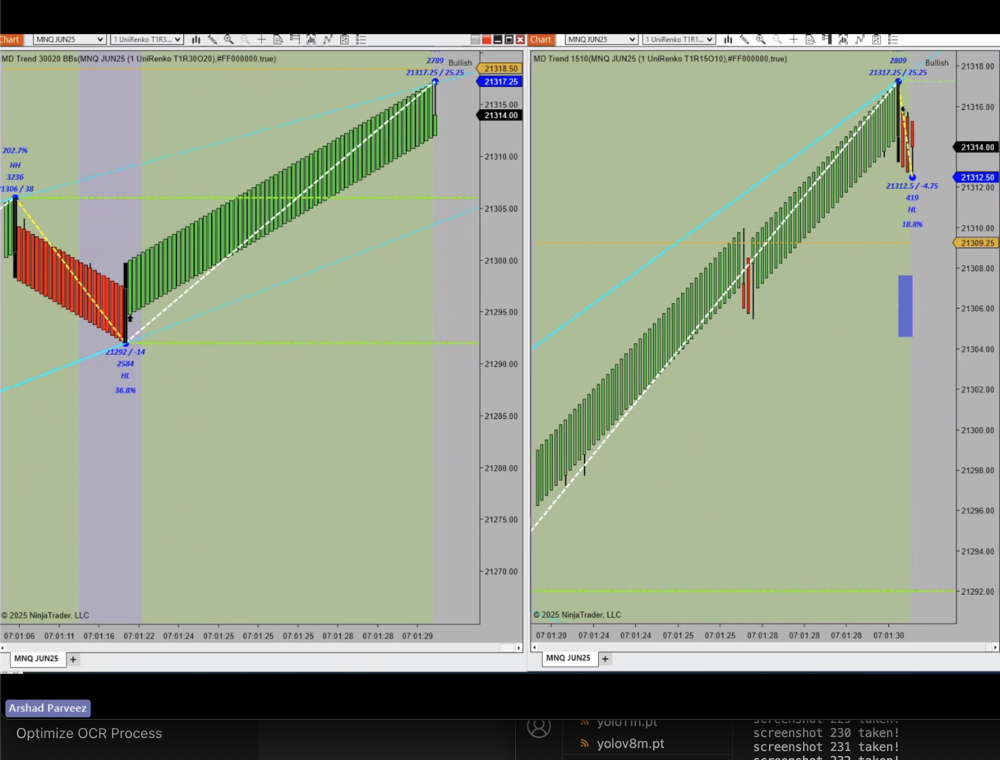HH: (6, 155, 29, 171)
HL: (111, 370, 141, 387), (902, 198, 926, 219)
